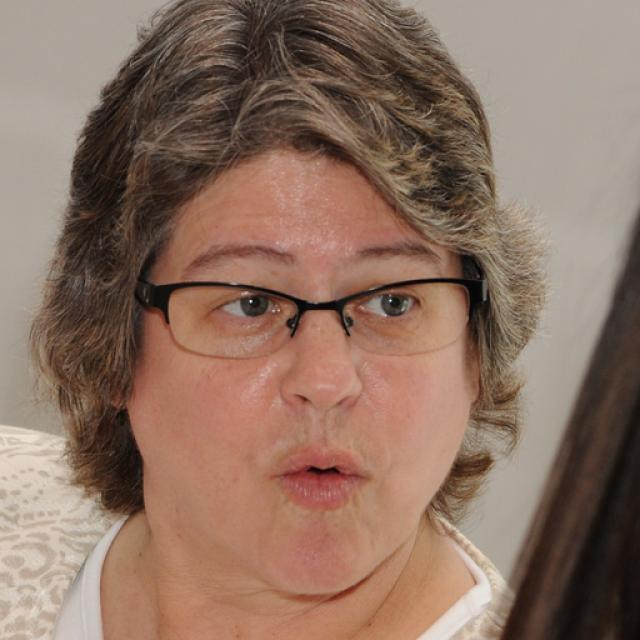surprise: (132, 135, 472, 595)
